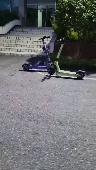beam: (21, 34, 54, 72)
gcooter: (49, 37, 90, 80)
